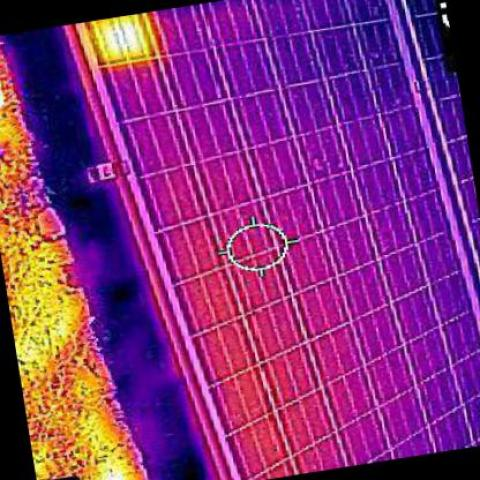fault: (92, 20, 146, 56)
